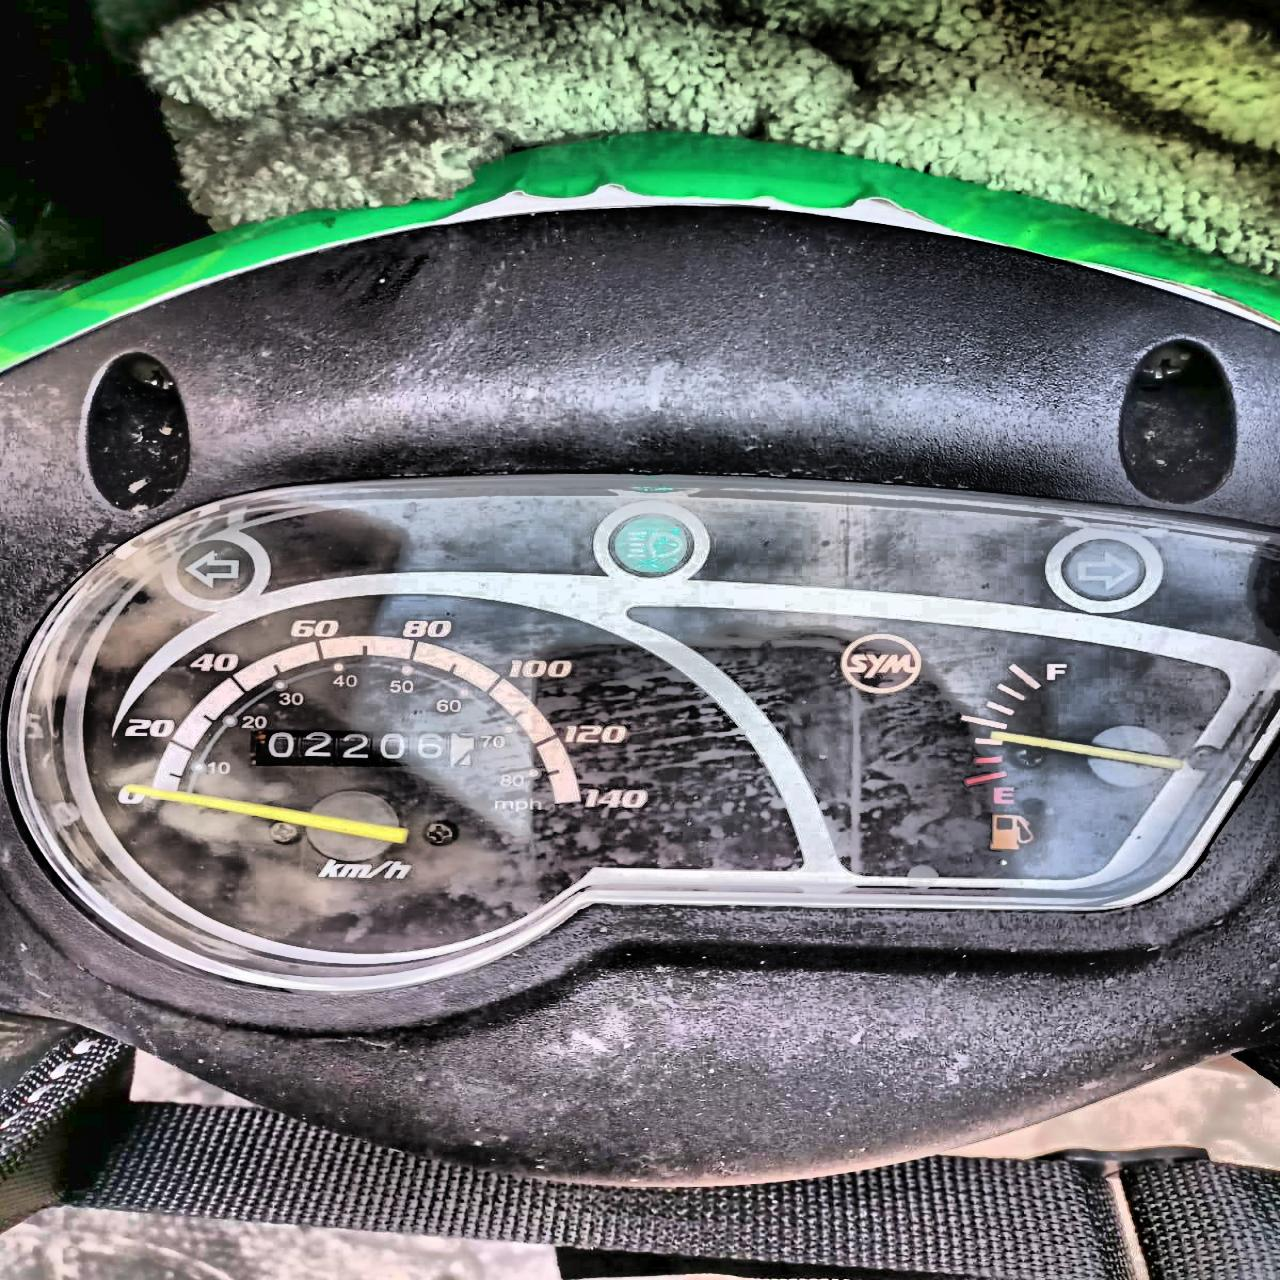0: (375, 731, 406, 760), (265, 729, 294, 757)
2: (339, 731, 369, 760), (302, 729, 333, 757)
4: (450, 745, 475, 769)
6: (415, 731, 443, 760)
odometer: (244, 727, 476, 770)
